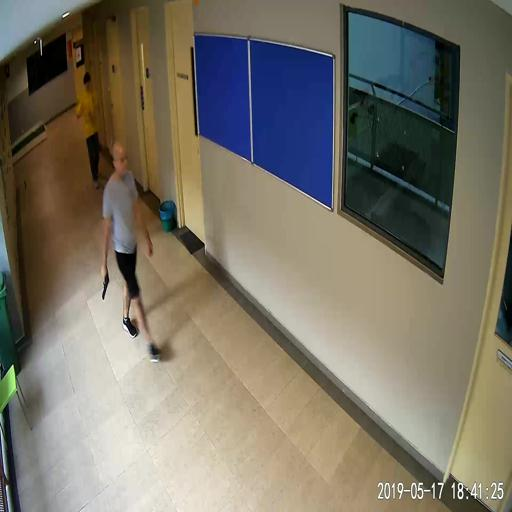pistol: (101, 269, 109, 299)
